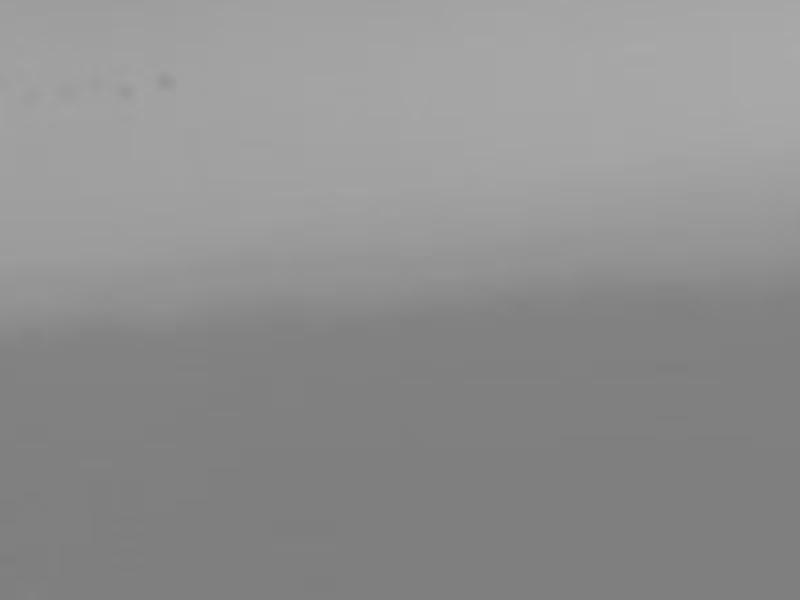defect: (153, 66, 181, 92), (20, 89, 44, 107), (116, 81, 134, 104), (58, 82, 79, 100)
